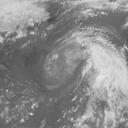cyclone: (42, 30, 127, 98)
